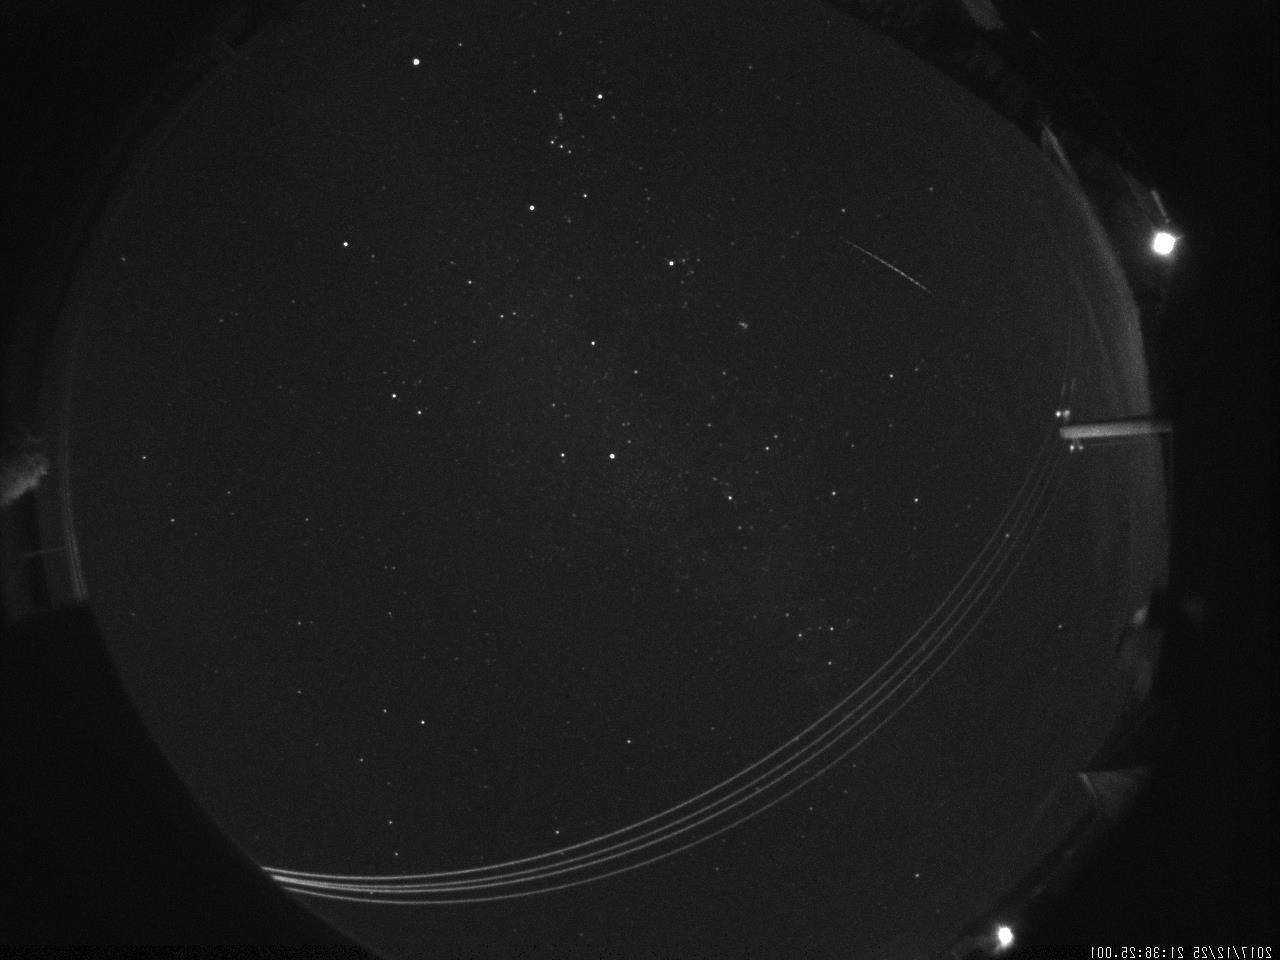meteor: (809, 216, 954, 320)
